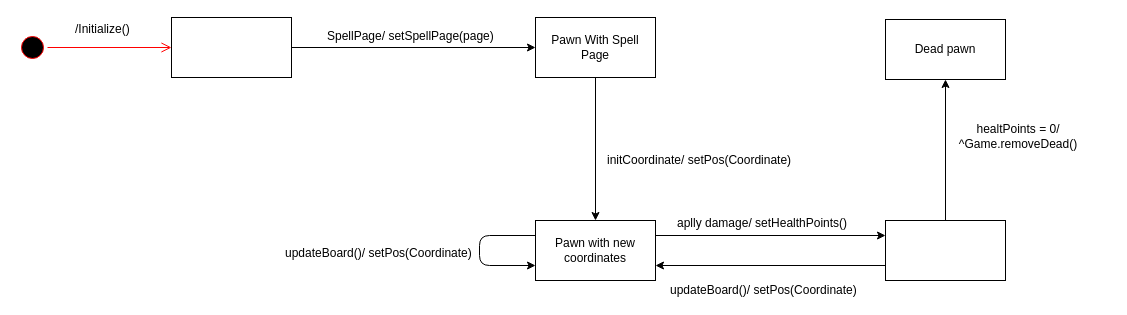
The diagram is 1127 pixels wide and 315 high, and some of its shapes have lost their labels. Each missing label, with the box of its shape:
Pawn: (170, 16, 292, 78)
pawn with new healt point: (884, 220, 1006, 280)
